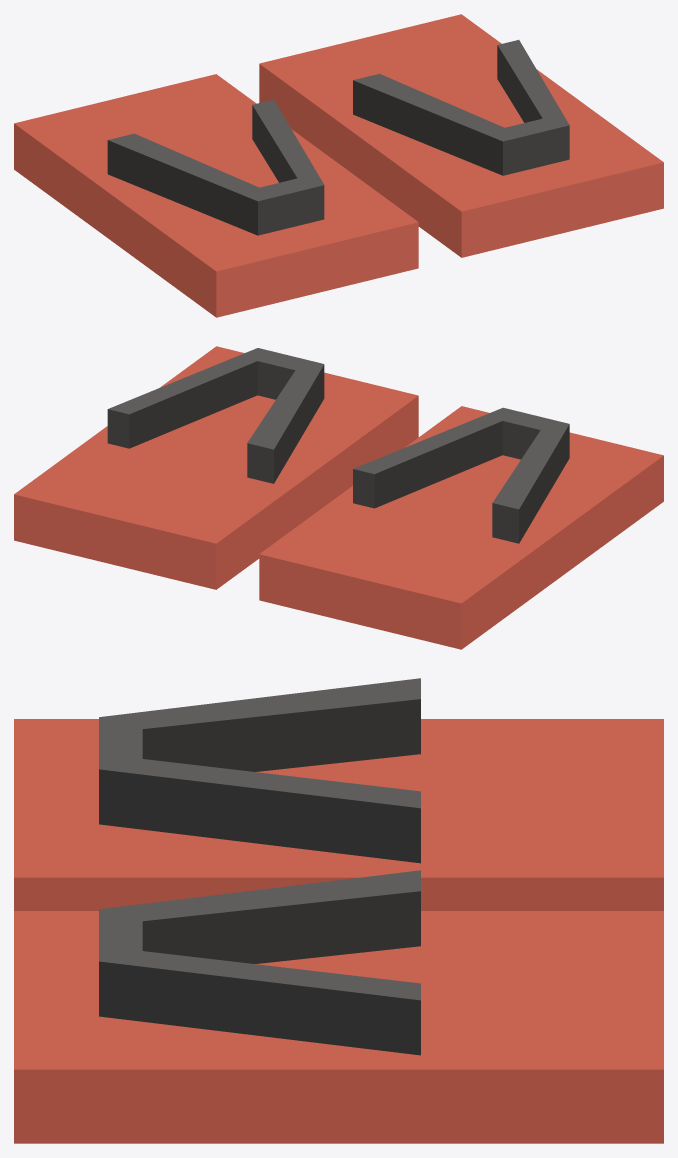
The model's file is ShoeFlipFlops2.glb.
The picture shows the model from 3 angles, top to bottom: view 1: azimuth 30°, elevation 25°; view 2: azimuth 150°, elevation 25°; view 3: azimuth 270°, elevation 25°; orthographic projection. The views are drawn at different scales.
Visible parts, largest first — view 1: SI_Prop_Shoe_Flipflops_02; view 2: SI_Prop_Shoe_Flipflops_02; view 3: SI_Prop_Shoe_Flipflops_02.
Boxes of the visible parts, bbox=[...] form: SI_Prop_Shoe_Flipflops_02: bbox=[14, 14, 663, 317]; SI_Prop_Shoe_Flipflops_02: bbox=[14, 346, 663, 649]; SI_Prop_Shoe_Flipflops_02: bbox=[14, 678, 663, 1143].
Bounding box in the file's own units: 0.00466 × 0.000801 × 0.00365.
1 material, 1 textured.
